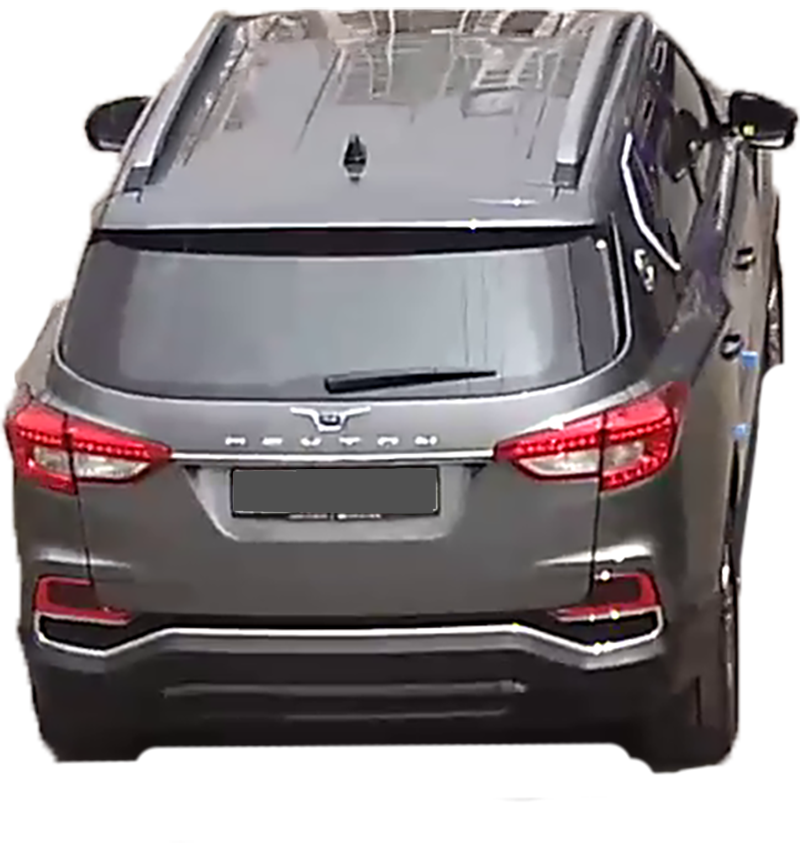P1_: (445, 466, 453, 478)
bbox: (230, 466, 444, 527)
